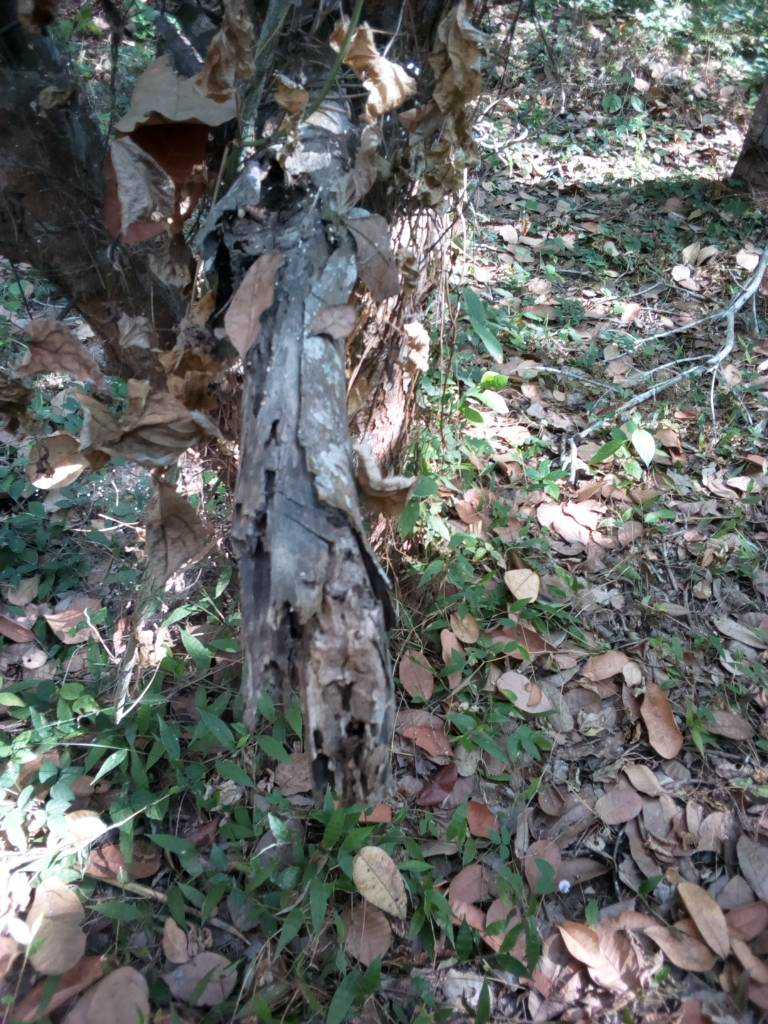Termites: (232, 325, 391, 764)
